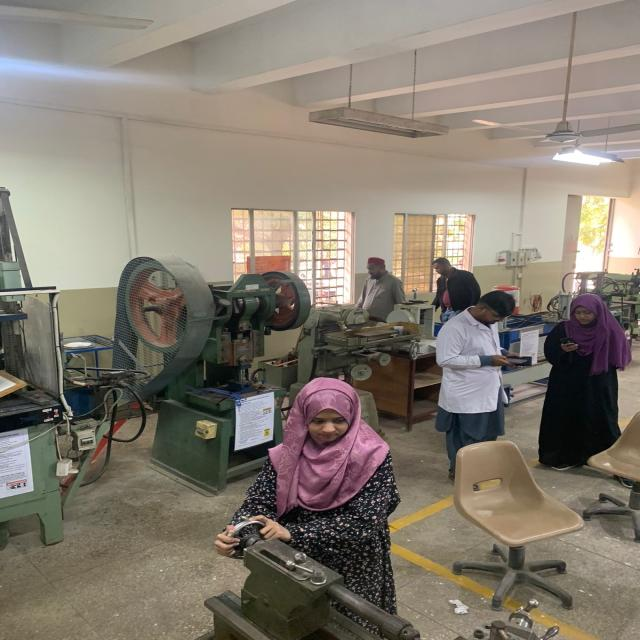labcoat: (432, 302, 511, 416)
